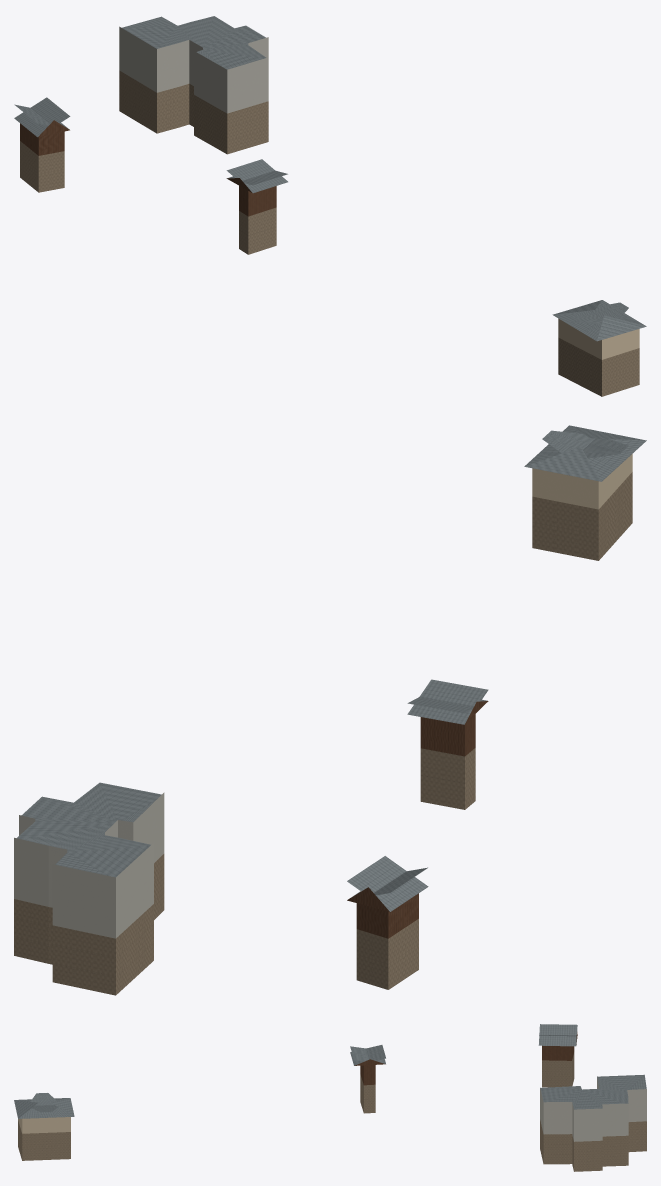
File: bld_c36_-28_440.gltf
3 renders of one model, top to bottom at view 1: azimuth 30°, elevation 25°; view 2: azimuth 150°, elevation 25°; view 3: azimuth 270°, elevation 25°, orthographic. The views are drawn at different scales.
Parts seen in each view (by area): view 1: bld_c36_-28_440; view 2: bld_c36_-28_440; view 3: bld_c36_-28_440.
Part boxes in pixels (x1,y1,x2,y2): bld_c36_-28_440: [14, 16, 646, 396]; bld_c36_-28_440: [14, 425, 646, 995]; bld_c36_-28_440: [14, 1024, 646, 1171].
Bounding box in the file's own units: 33.25 × 11.1 × 97.53.
7 materials, 7 textured.
